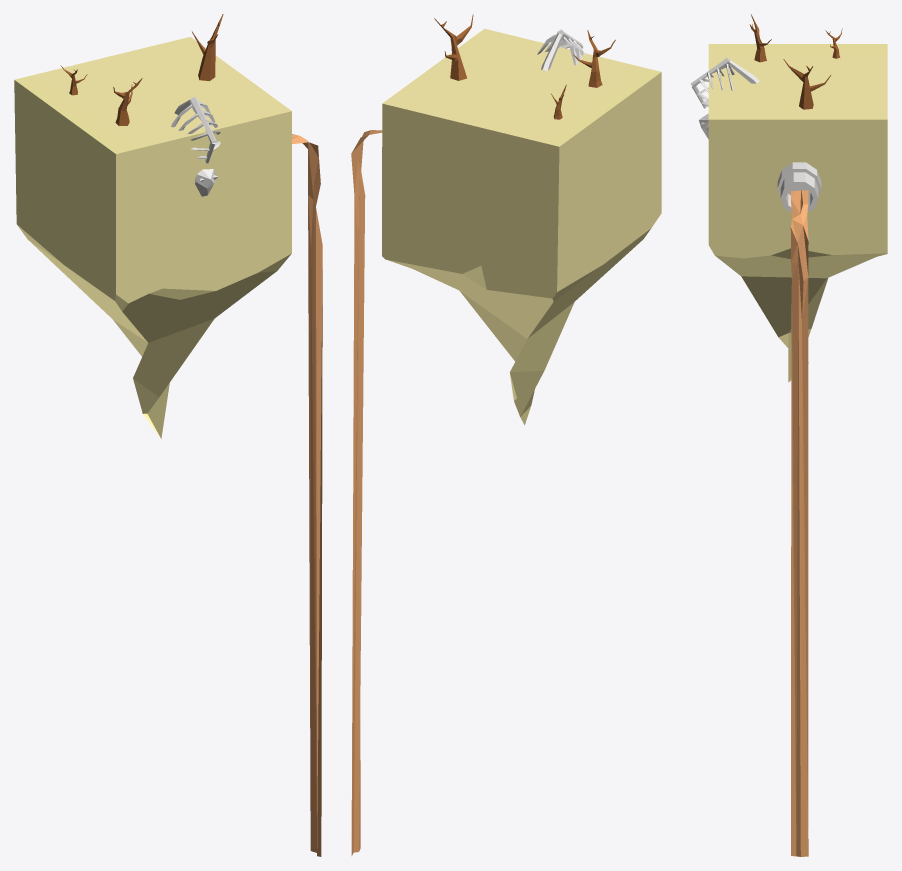
The model's file is pulau2.fbx.
3 renders of one model, left to right at view 1: azimuth 30°, elevation 25°; view 2: azimuth 150°, elevation 25°; view 3: azimuth 270°, elevation 25°, orthographic. The views are drawn at different scales.
Visible parts, largest first — view 1: Cube.001; view 2: Cube.001; view 3: Cube.001.
Part boxes in pixels (left/top/right/bottom): Cube.001: left=14, top=14, right=322, bottom=856; Cube.001: left=351, top=14, right=661, bottom=855; Cube.001: left=690, top=14, right=887, bottom=856.
Size of the model in its own units: 259 by 835 by 198.
